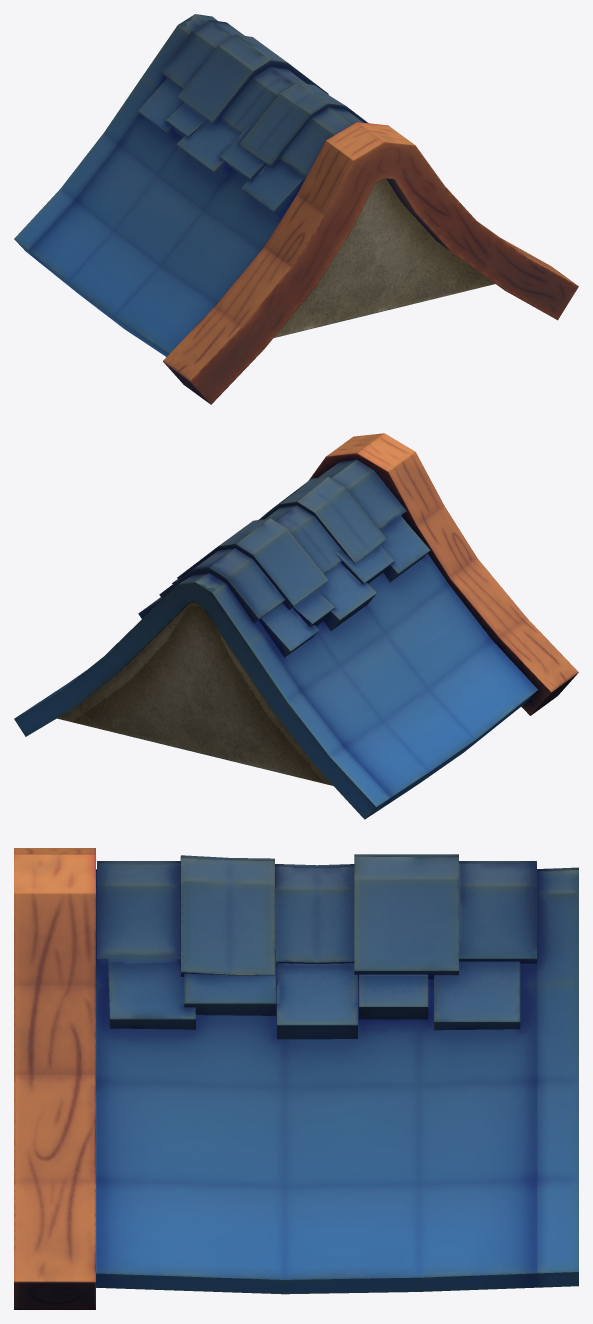
Rendered from RoofEnd.dae.
3 views of the same model, one above another, from view 1: azimuth 30°, elevation 25°; view 2: azimuth 150°, elevation 25°; view 3: azimuth 270°, elevation 25° (orthographic). The views are drawn at different scales.
Visible parts, largest first — view 1: Cube_001; view 2: Cube_001; view 3: Cube_001.
Part boxes in pixels (x1=…): Cube_001: x1=14, y1=14, x2=578, y2=404; Cube_001: x1=14, y1=433, x2=578, y2=819; Cube_001: x1=14, y1=848, x2=578, y2=1309.
Size of the model in its own units: 7.77 by 6.55 by 4.21.
Materials: 1 (1 with a texture image).
